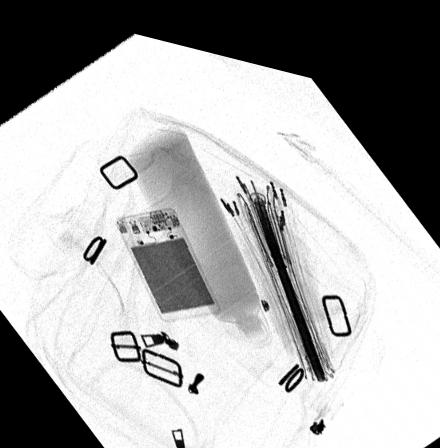Powerbank: (112, 197, 220, 315)
